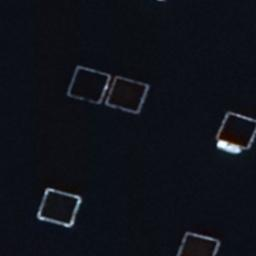square_solid: (64, 60, 116, 109), (31, 183, 85, 230), (103, 71, 152, 118), (211, 107, 256, 155), (175, 226, 225, 256)
